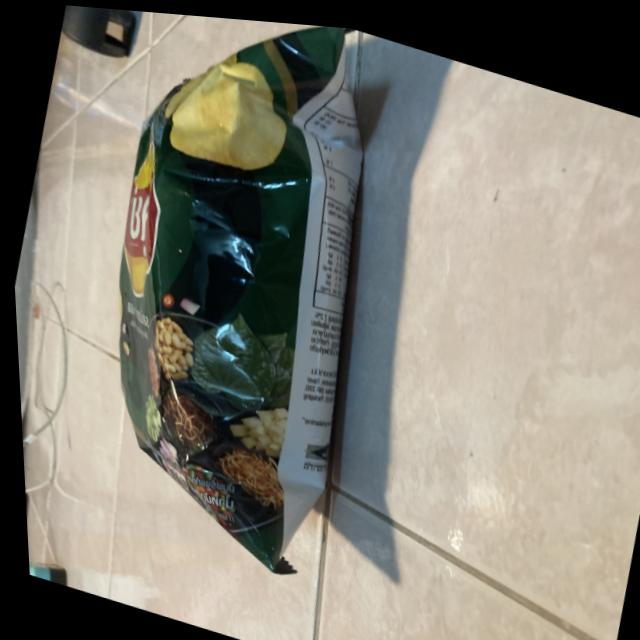Laygreen: (8, 1, 461, 608)
